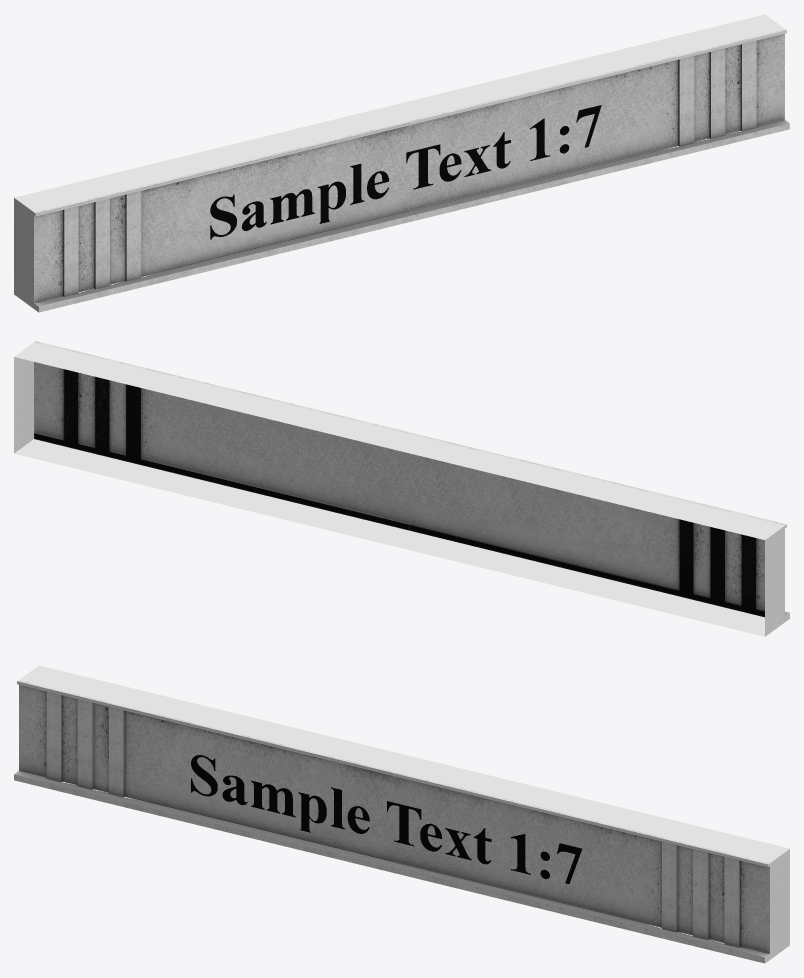
The model's file is name_3.glb.
3 renders of one model, top to bottom at view 1: azimuth 30°, elevation 25°; view 2: azimuth 150°, elevation 25°; view 3: azimuth 330°, elevation 25°, orthographic.
Parts seen in each view (by area): view 1: name_3, name_3_img; view 2: name_3; view 3: name_3, name_3_img.
Part boxes in pixels (bbox=[...]): name_3: bbox=[14, 14, 789, 312]; name_3_img: bbox=[210, 105, 601, 239]; name_3: bbox=[14, 341, 789, 636]; name_3: bbox=[14, 665, 789, 963]; name_3_img: bbox=[191, 755, 582, 883].
Size of the model in its own units: 6.5 by 0.8 by 0.3729.
Materials: 2 (2 with a texture image).
